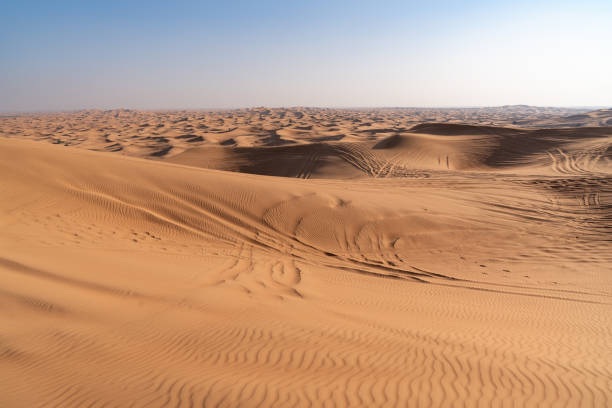vehicle_track: (206, 190, 297, 291), (374, 230, 464, 287), (292, 142, 397, 179), (271, 207, 302, 304), (539, 145, 603, 183)
